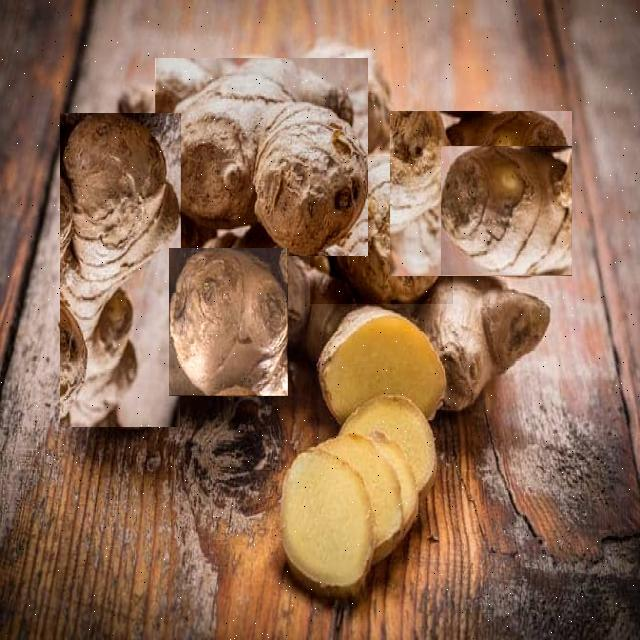ginger: (155, 58, 366, 255), (59, 112, 179, 426), (390, 110, 570, 275), (309, 155, 451, 303), (168, 248, 286, 394), (440, 146, 570, 274)
